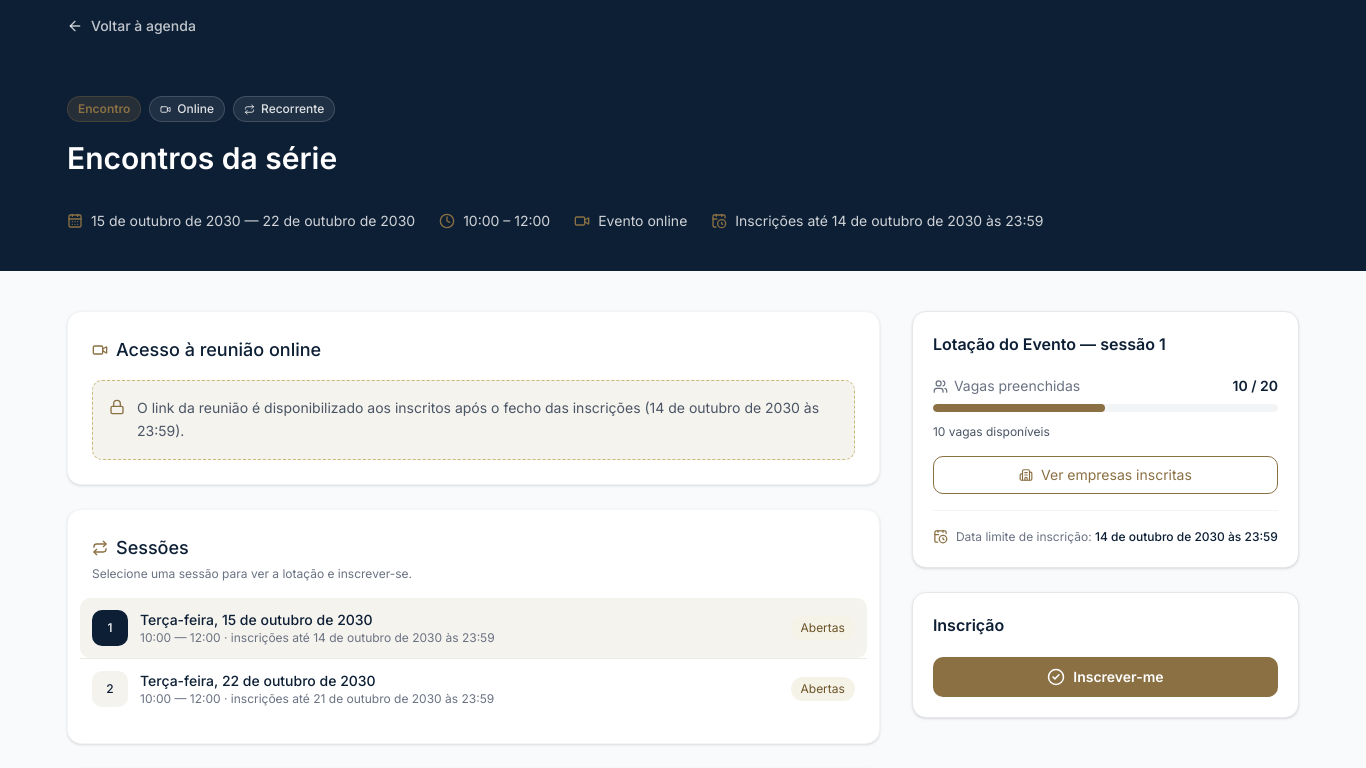
Test: Inscrição em eventos por admins › o admin com perfil inscreve-se nesta e nas seguintes sessões de uma série
The image size is (1366, 768).
Click the button "Inscrever-me" at (1105, 677), box [933, 657, 1278, 697]
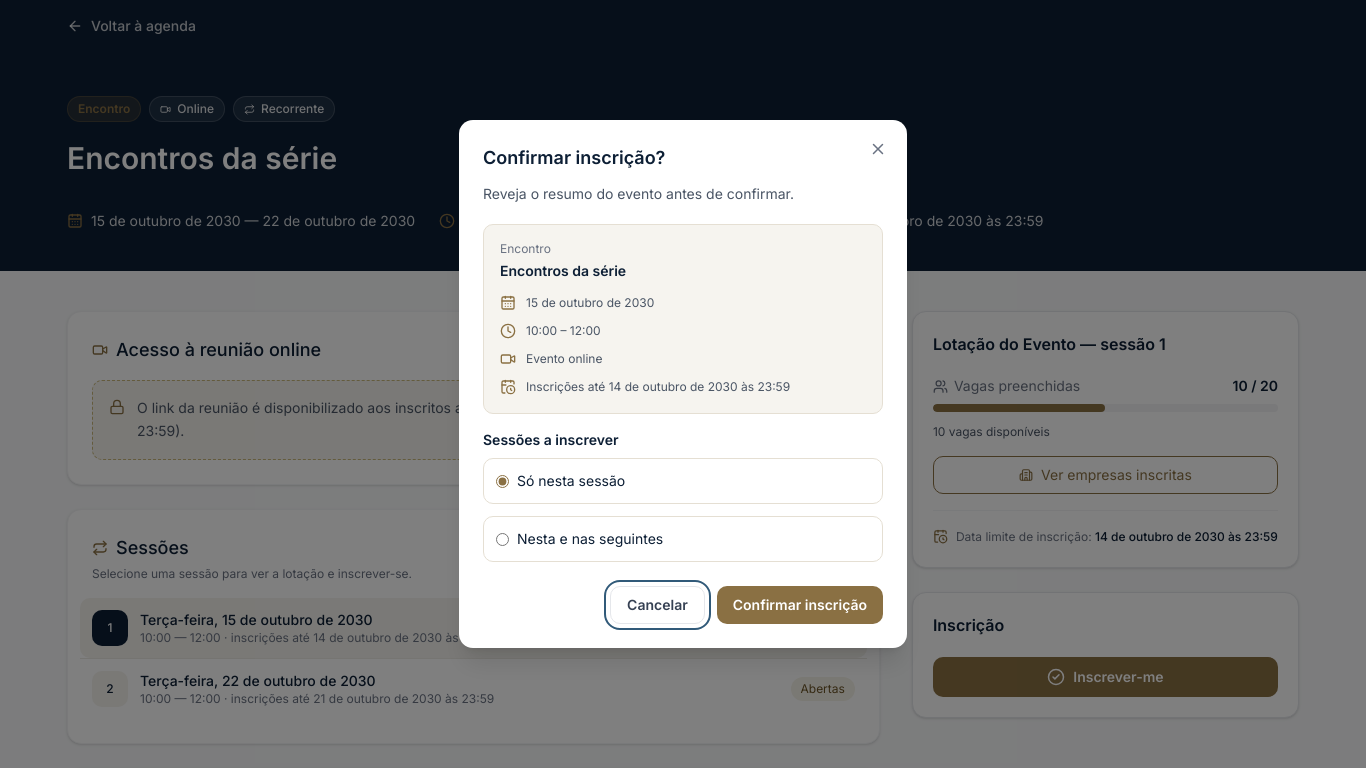
Click the radio button labelled "Nesta e nas seguintes" at (502, 540), box [496, 533, 509, 546]
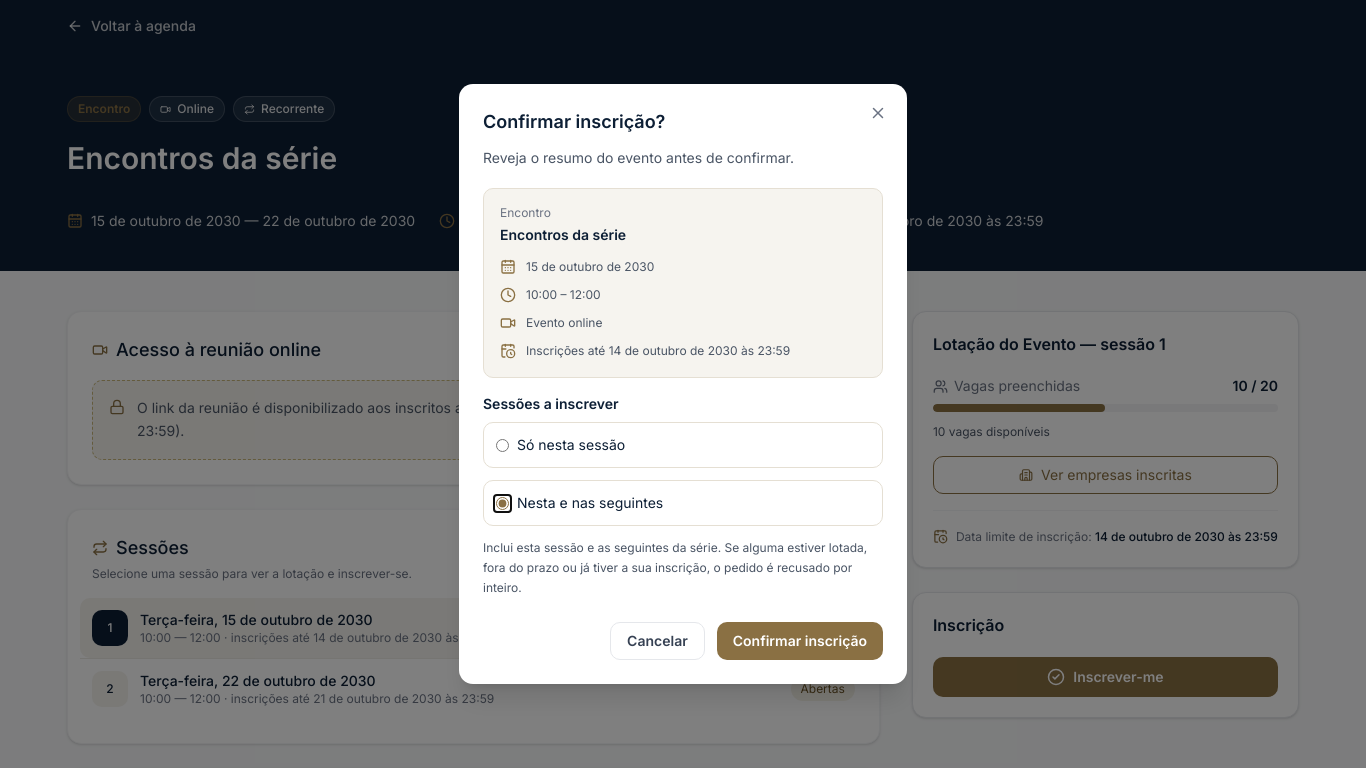
Click the button "Confirmar inscrição" at (800, 641), box [717, 622, 883, 660]
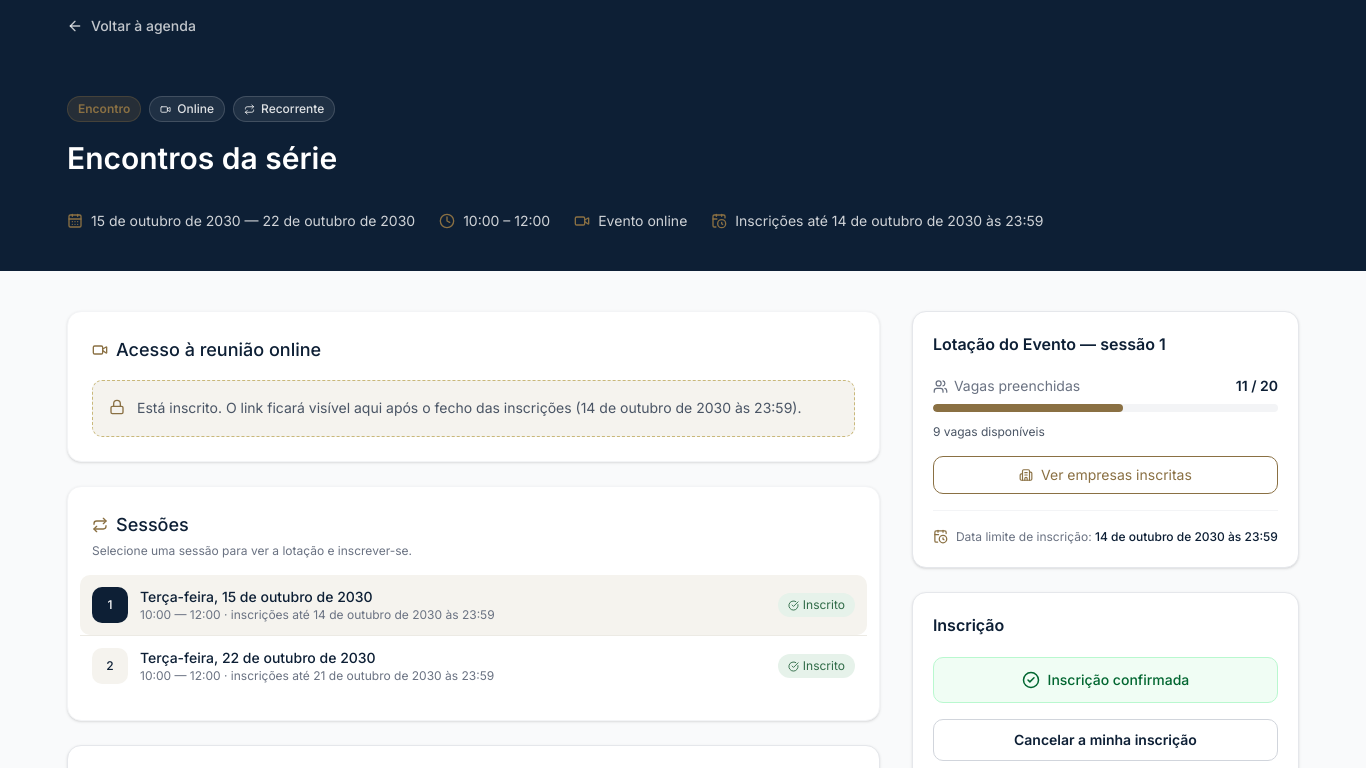
Expected: the text "Inscrição confirmada" is shown, [933, 657, 1278, 703]
